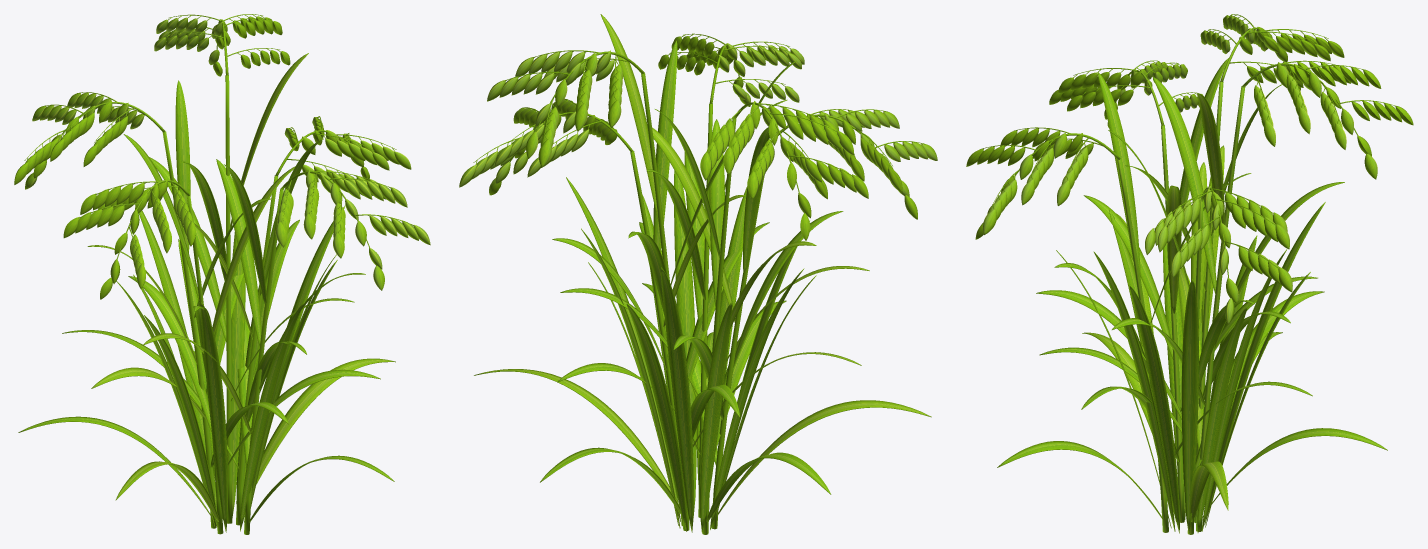
File: NP_Rice_Heading.fbx
3 renders of one model, left to right at view 1: azimuth 30°, elevation 25°; view 2: azimuth 150°, elevation 25°; view 3: azimuth 270°, elevation 25°, orthographic. The views are drawn at different scales.
Visible parts, largest first — view 1: NP_Rice_Heading; view 2: NP_Rice_Heading; view 3: NP_Rice_Heading.
Part boxes in pixels (box(x1,y1,x2,y2)): NP_Rice_Heading: box(14, 14, 430, 534); NP_Rice_Heading: box(459, 14, 937, 534); NP_Rice_Heading: box(966, 14, 1413, 534).
Size of the model in its own units: 92.94 by 110 by 91.43.
